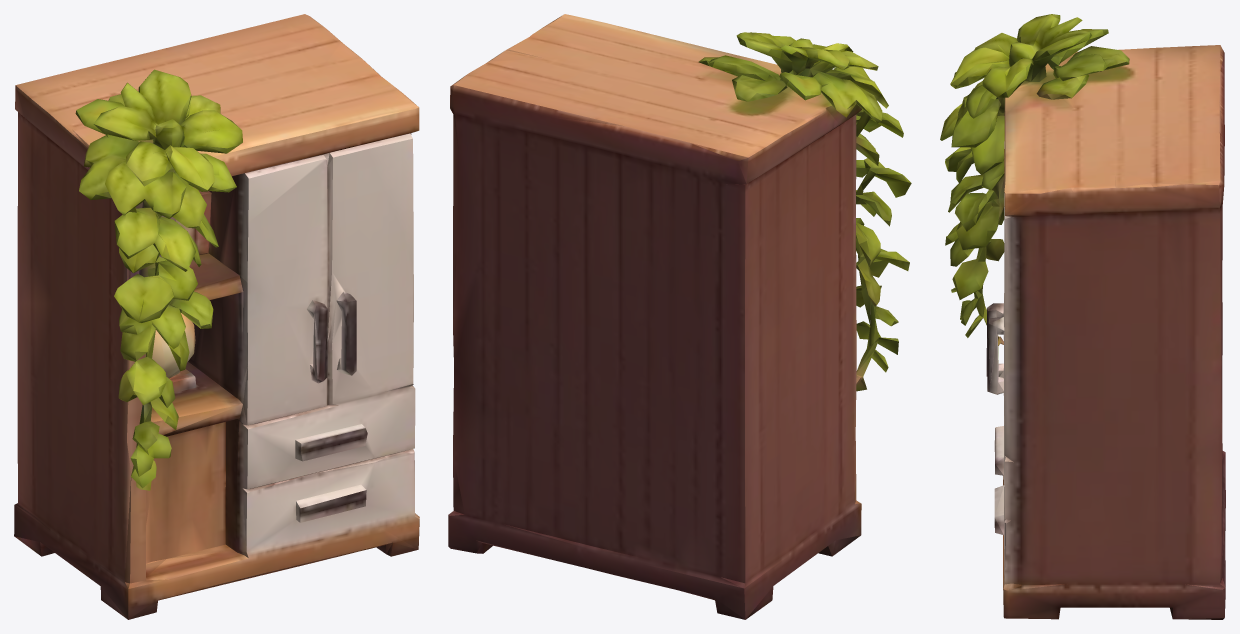
File: cabinet01.glb
The picture shows the model from 3 angles, left to right: view 1: azimuth 30°, elevation 25°; view 2: azimuth 150°, elevation 25°; view 3: azimuth 270°, elevation 25°; orthographic projection. The views are drawn at different scales.
Bounding box in the file's own units: 0.203 × 0.297 × 0.159.
1 material, 1 textured.
